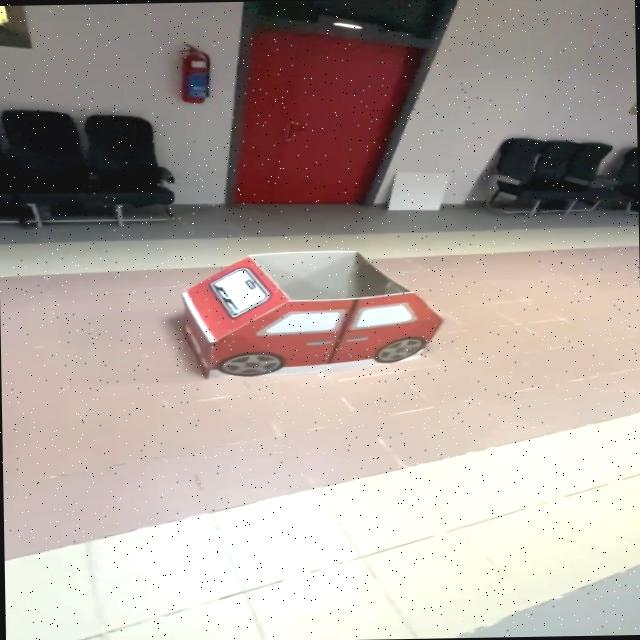red_car: (123, 234, 464, 403)
